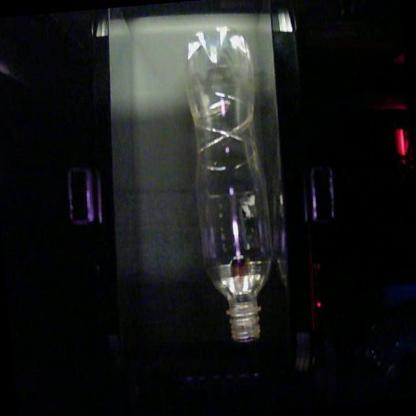Plastic Bottle: (188, 26, 272, 342)
